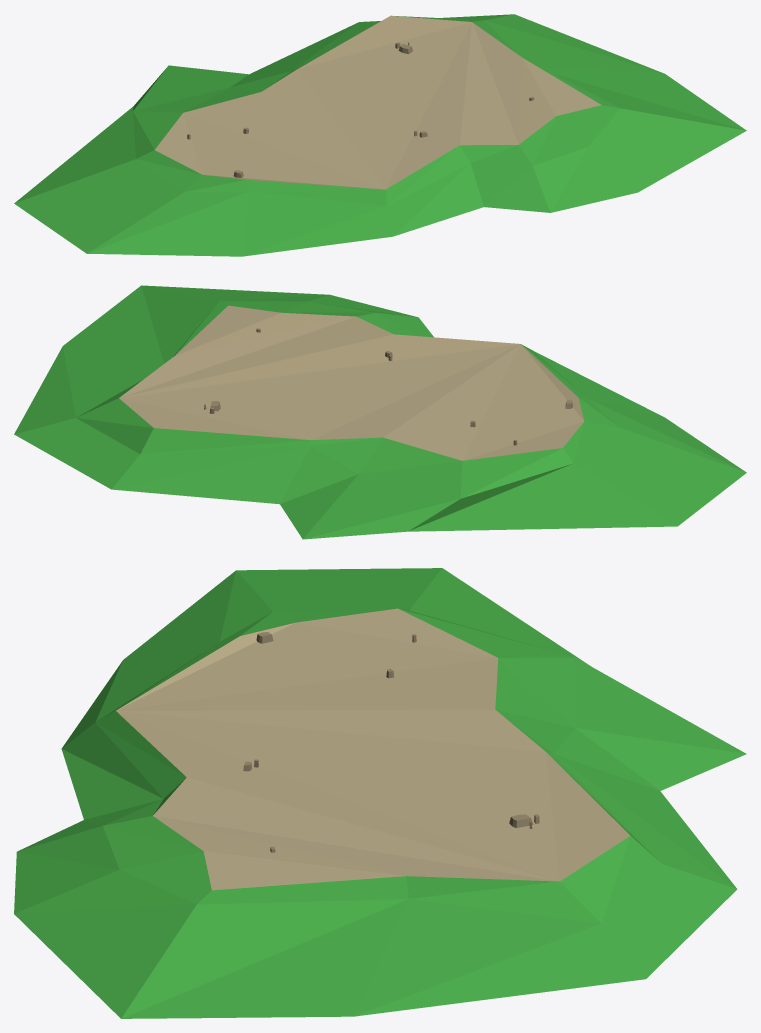
Rendered from Ground_07.FBX.
The picture shows the model from 3 angles, top to bottom: view 1: azimuth 30°, elevation 25°; view 2: azimuth 150°, elevation 25°; view 3: azimuth 270°, elevation 25°; orthographic projection. The views are drawn at different scales.
Visible parts, largest first — view 1: Ground_07; view 2: Ground_07; view 3: Ground_07.
Part boxes in pixels (box(x1,y1,x2,y2)): Ground_07: box(14, 14, 746, 256); Ground_07: box(14, 285, 746, 539); Ground_07: box(14, 568, 746, 1018).
Bounding box in the file's own units: 11.49 × 0.6867 × 7.89.
